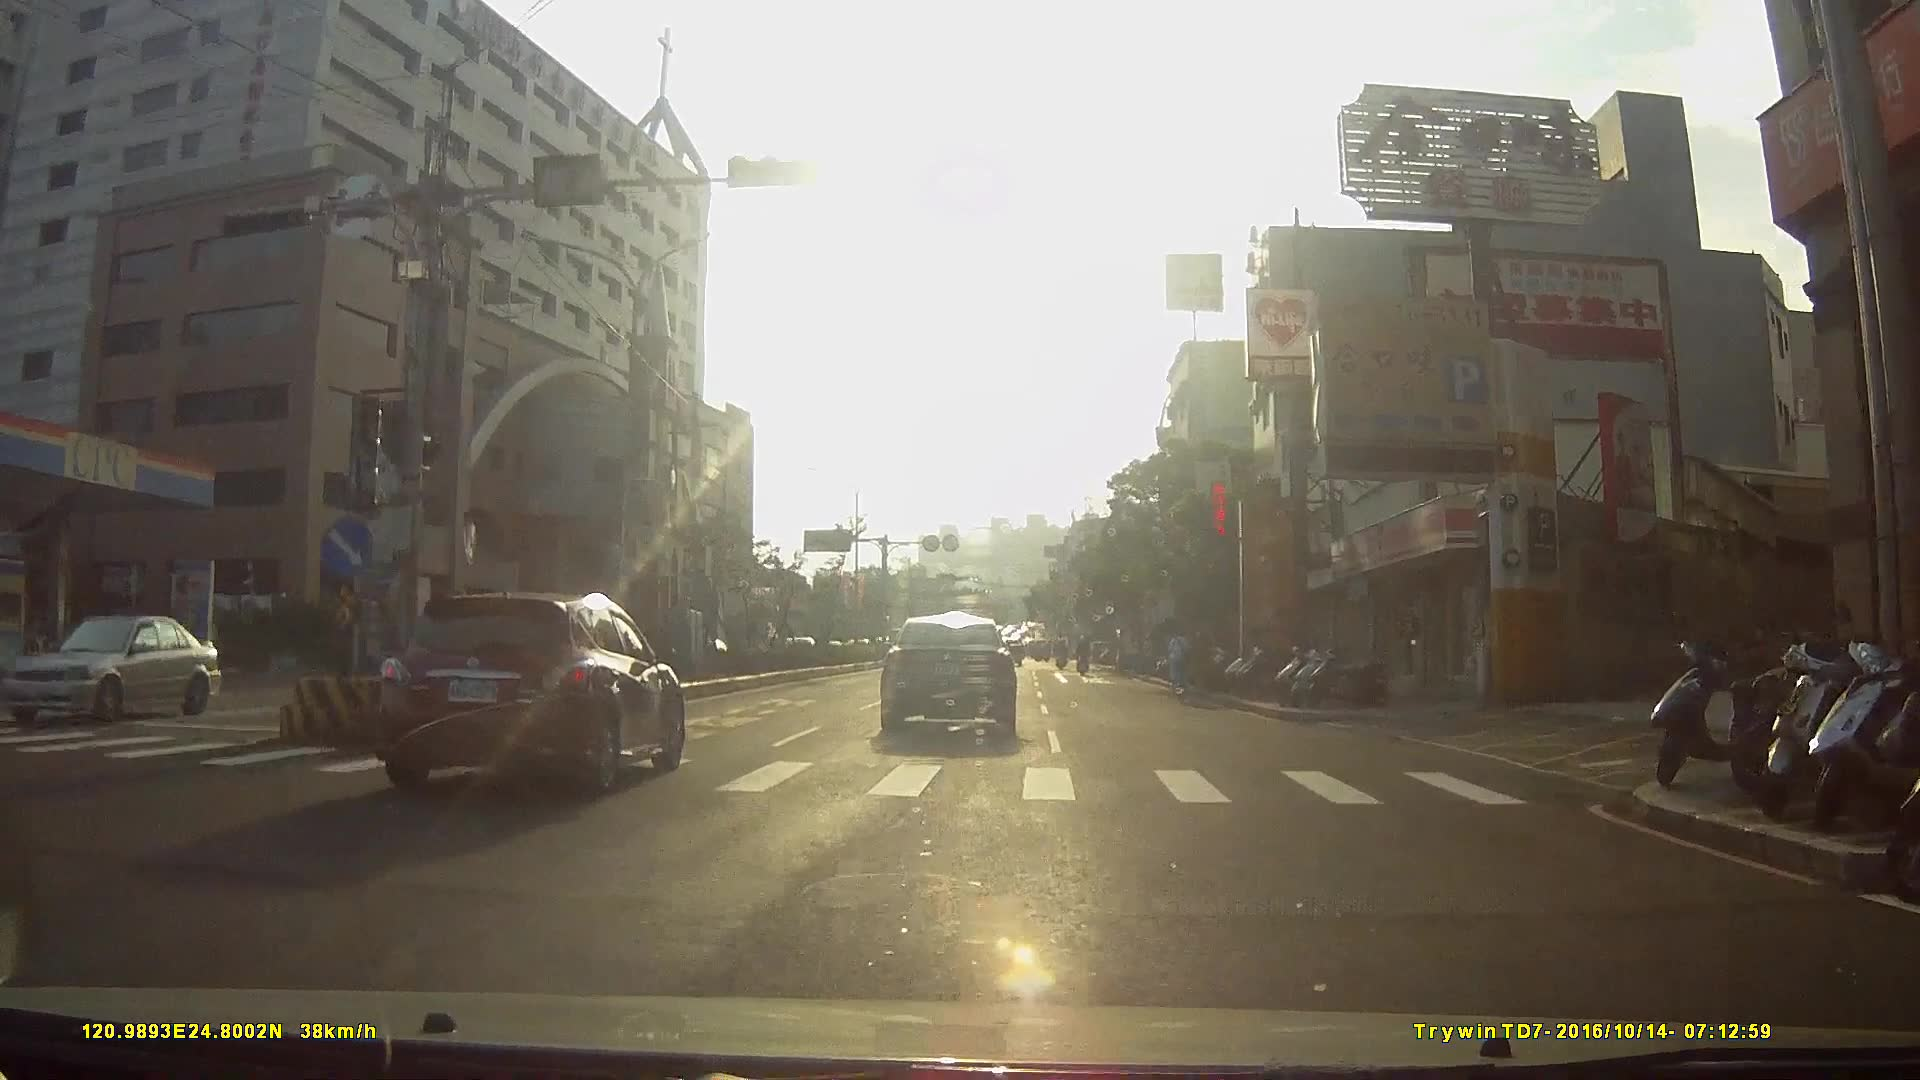rider: (1166, 625, 1195, 707)
vehicle: (370, 580, 697, 801), (30, 608, 227, 735), (874, 603, 1027, 738), (763, 607, 822, 662)
